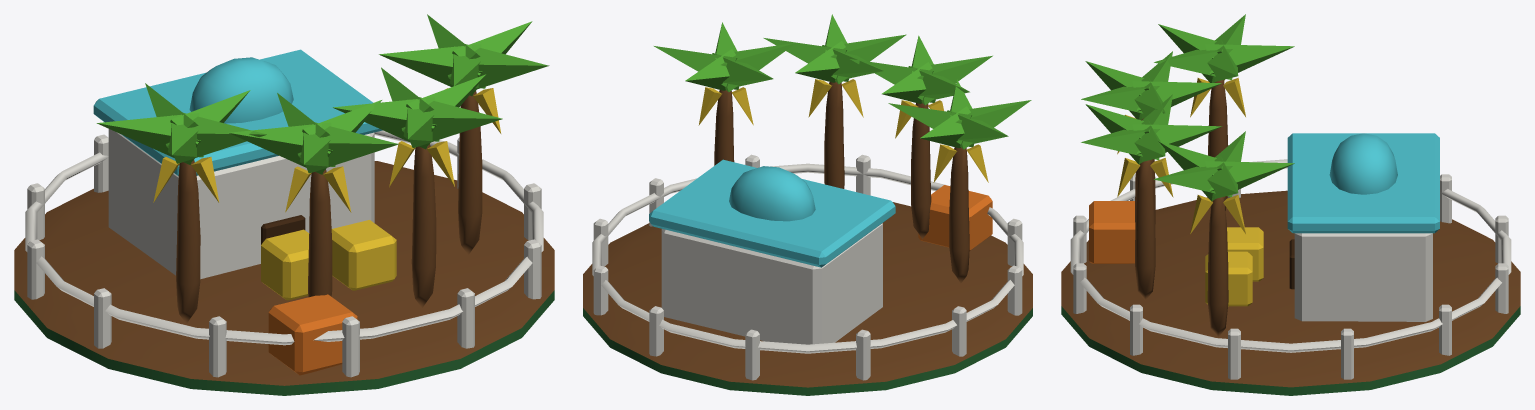
3 views of the same model, side by side, from view 1: azimuth 30°, elevation 25°; view 2: azimuth 150°, elevation 25°; view 3: azimuth 270°, elevation 25° (orthographic). The views are drawn at different scales.
Visible parts, largest first — view 1: fazenda_0_base, fazenda_1_torreta; view 2: fazenda_0_base, fazenda_1_torreta; view 3: fazenda_0_base, fazenda_1_torreta.
Boxes of the visible parts, x1,y1,x2,y2 form: fazenda_0_base: [14, 49, 554, 395]; fazenda_1_torreta: [96, 14, 549, 323]; fazenda_0_base: [583, 154, 1032, 395]; fazenda_1_torreta: [654, 14, 1031, 283]; fazenda_0_base: [1061, 133, 1520, 395]; fazenda_1_torreta: [1081, 14, 1294, 337].
Bounding box in the file's own units: 1.28 × 0.5951 × 1.26.
